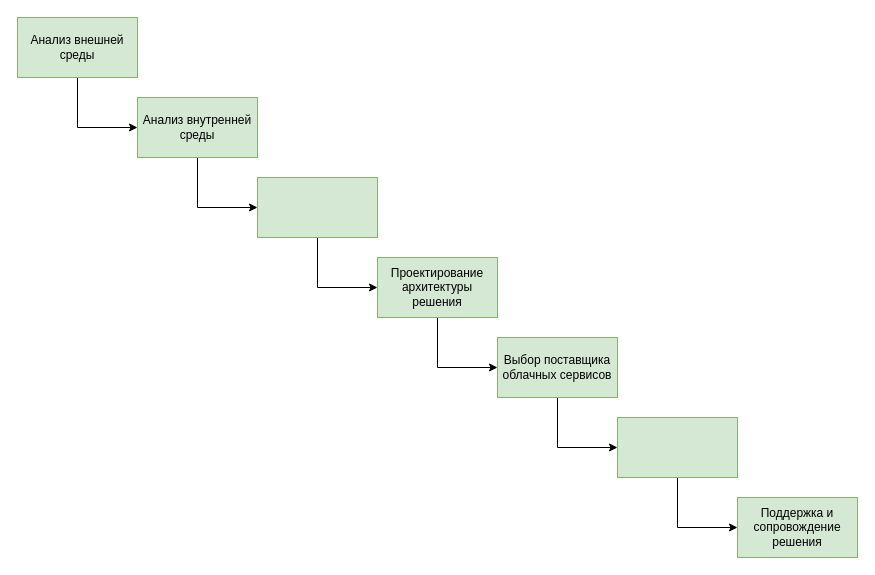
Some shapes in this 875 by 575 pixel diagram are drawn without their labels. The shapes that lost their labels are listed below. From the top down, each one's centre as x and y in pixels, then its label:
At point (317, 207): "Формулирование целей и определение стратегии".
At point (677, 447): "Запуск в эксплуатацию".
